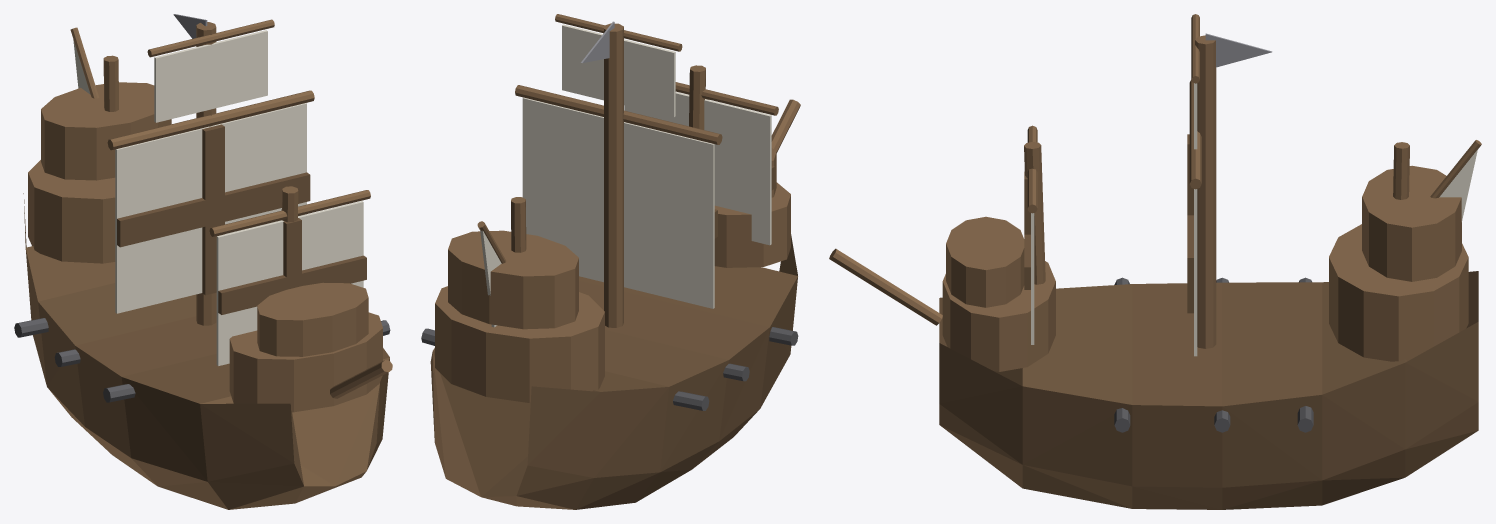
The model's file is SantaMaria.fbx.
The picture shows the model from 3 angles, left to right: view 1: azimuth 30°, elevation 25°; view 2: azimuth 150°, elevation 25°; view 3: azimuth 270°, elevation 25°; orthographic projection. The views are drawn at different scales.
Visible parts, largest first — view 1: SantaMaria; view 2: SantaMaria; view 3: SantaMaria.
Part boxes in pixels (x1,y1,x2,y2): SantaMaria: [14, 14, 392, 509]; SantaMaria: [421, 14, 800, 509]; SantaMaria: [829, 14, 1481, 509].
Bounding box in the file's own units: 8.13 × 11.93 × 15.92.
